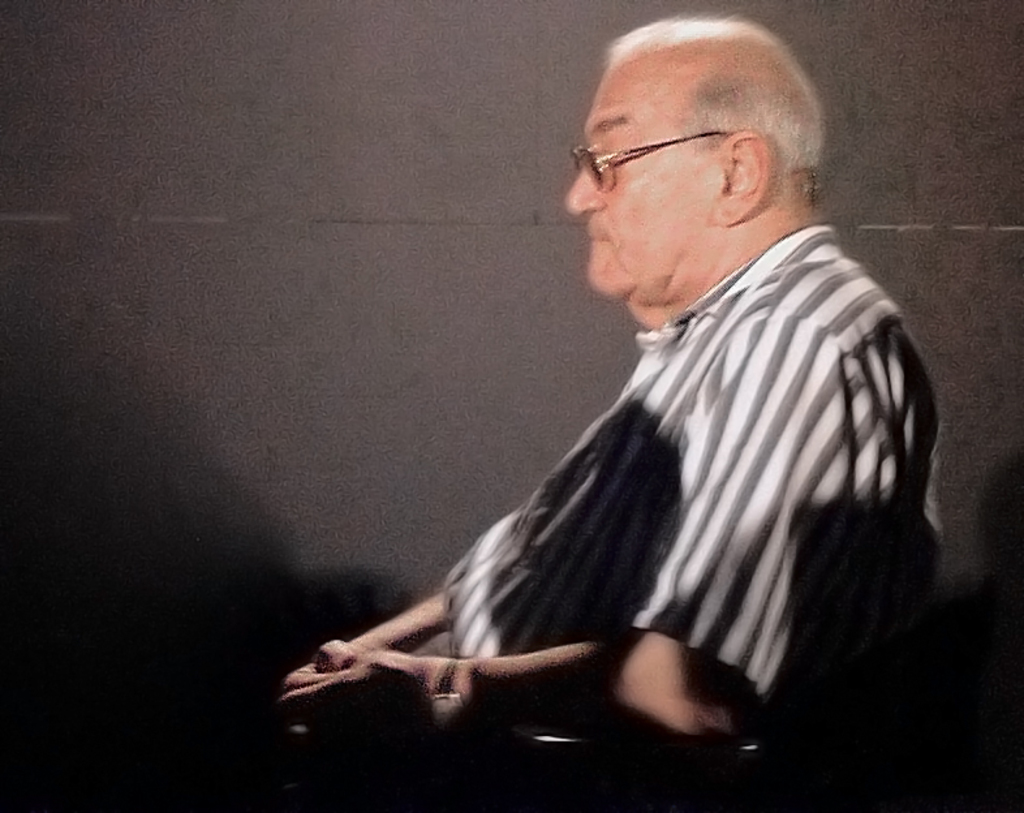Human_hand: (275, 606, 602, 739), (285, 640, 374, 683)
